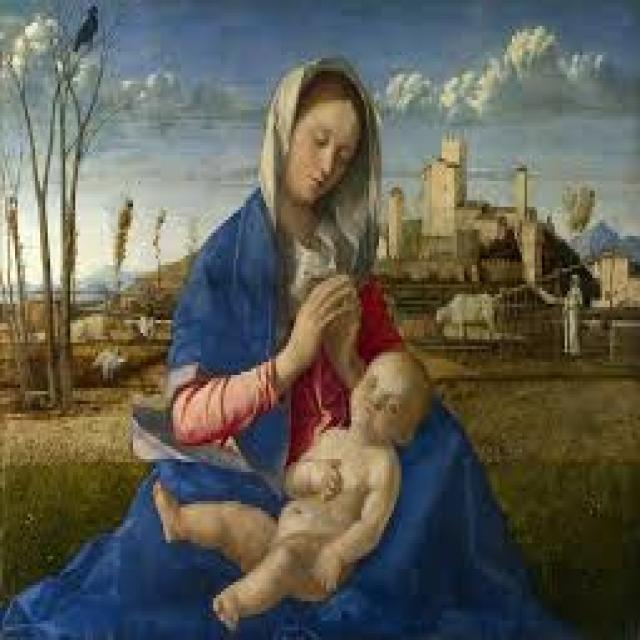mother of god: (139, 41, 542, 640)
